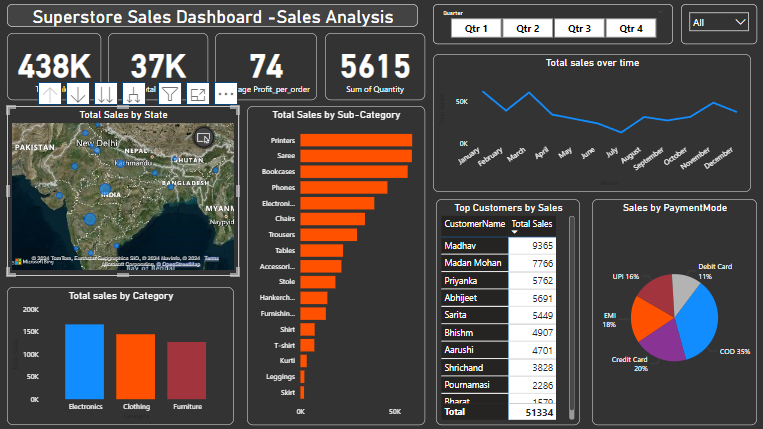

The dashboard page shown, as its layout file describes it:
{"tool":"powerbi","page":{"name":"Page 3","canvas":[1280,720],"ordinal":2},"visuals":[{"type":"textbox","title":"Superstore Sales Dashboard -Sales Analysis","box":[15,6.7,685,38.3],"z":0},{"type":"slicer","fields":{"Values":["Orders.Order Date.Variation.Date Hierarchy.Quarter"]},"box":[725,6.7,400,66.7],"z":1000},{"type":"slicer","fields":{"Values":["Orders.State"]},"box":[1138.3,6.7,126.7,66.7],"z":2000},{"type":"card","fields":{"Values":["Details.total sales"]},"box":[15,55,156.7,111.7],"z":3000},{"type":"card","fields":{"Values":["Details.total profit"]},"box":[183.3,55,166.7,111.7],"z":4000},{"type":"card","fields":{"Values":["Details.Average Profit_per_order"]},"box":[361.7,55,170,111.7],"z":5000},{"type":"card","fields":{"Values":["Sum(Details.Quantity)"]},"box":[545,55,166.7,111.7],"z":6000},{"type":"map","title":"Total Sales by State","fields":{"Category":["Orders.State","Orders.City"],"Size":["Details.total sales"]},"box":[15,176.7,386.7,283.3],"z":7000},{"type":"columnChart","title":"Total sales by Category","fields":{"Category":["Details.Category"],"Y":["Details.total sales"]},"box":[15,478.3,378.3,230],"z":8000},{"type":"barChart","fields":{"Category":["Details.Sub-Category"],"Y":["Details.total sales"]},"box":[415,176.7,296.7,531.7],"z":9000},{"type":"pivotTable","title":"Top Customers by Sales","fields":{"Rows":["Orders.CustomerName"],"Values":["Details.total sales"]},"box":[730,331.7,240,376.7],"z":10000},{"type":"pieChart","title":"Sales by PaymentMode","fields":{"Category":["Details.PaymentMode"],"Y":["Details.total sales"]},"box":[990,331.7,275,376.7],"z":11000},{"type":"lineChart","title":"Total sales over time","fields":{"Category":["Orders.Order Date.Variation.Date Hierarchy.Month"],"Y":["Details.total sales"]},"box":[725,90,530,230],"z":12000}]}

Visuals, with their boxes in screenshot pixels (x1, y1, x2, y2), scaled from the page's 1280x720 canvas onto the 763x429 screenshot:
"Superstore Sales Dashboard -Sales Analysis" textbox: bbox=[9, 4, 417, 27]
slicer - Orders.Order Date.Variation.Date Hierarchy.Quarter: bbox=[432, 4, 671, 44]
slicer - Orders.State: bbox=[679, 4, 754, 44]
card - Details.total sales: bbox=[9, 33, 102, 99]
card - Details.total profit: bbox=[109, 33, 209, 99]
card - Details.Average Profit_per_order: bbox=[216, 33, 317, 99]
card - Sum(Details.Quantity): bbox=[325, 33, 424, 99]
"Total Sales by State" map: bbox=[9, 105, 239, 274]
"Total sales by Category" columnChart: bbox=[9, 285, 234, 422]
barChart - Details.Sub-Category x Details.total sales: bbox=[247, 105, 424, 422]
"Top Customers by Sales" pivotTable: bbox=[435, 198, 578, 422]
"Sales by PaymentMode" pieChart: bbox=[590, 198, 754, 422]
"Total sales over time" lineChart: bbox=[432, 54, 748, 191]
